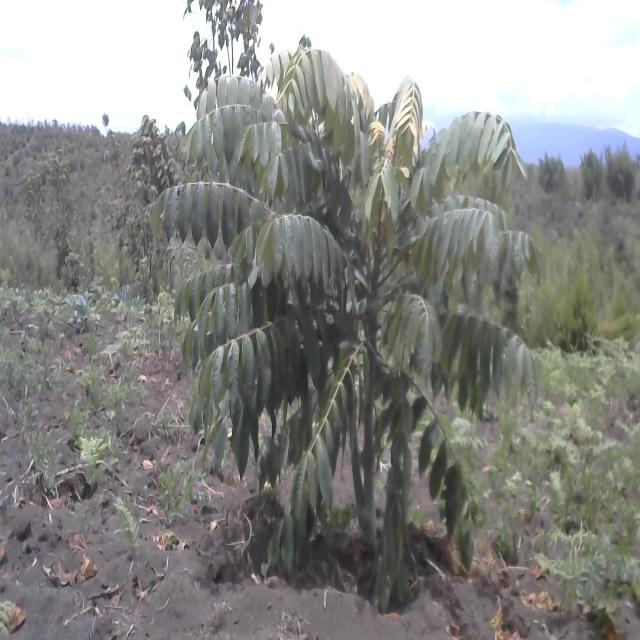Croton machrostychus: (128, 107, 184, 241)
Polyscias Kikuyensis: (151, 41, 541, 581)
